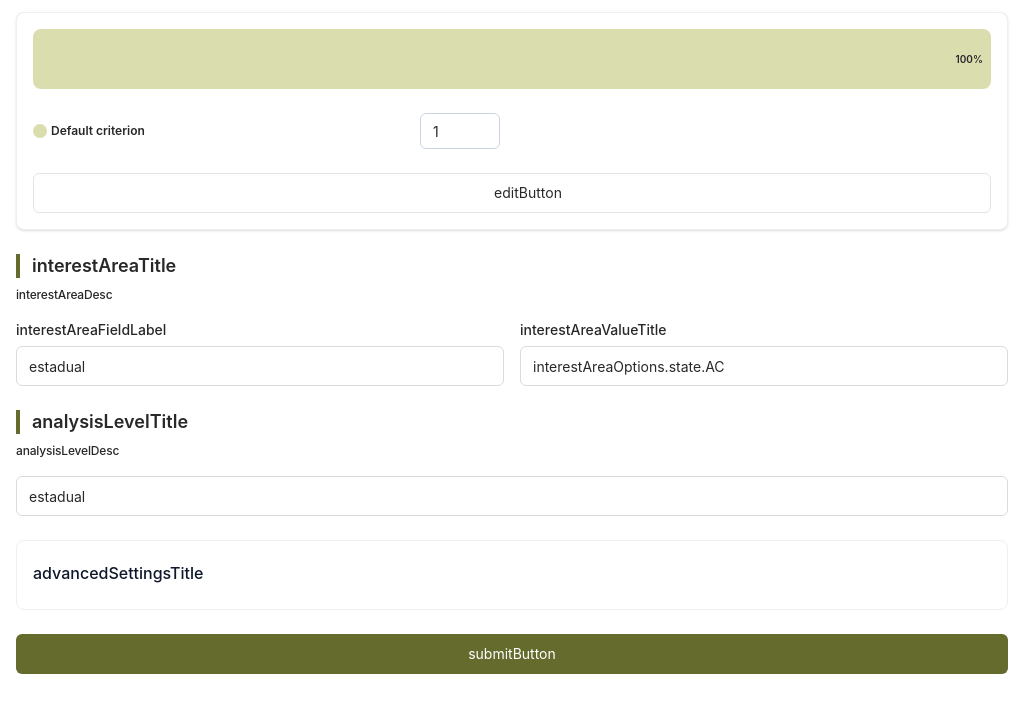
Test: closes the advanced settings on click while an error is still showing
(page scrolled)
Click the button "advancedSettingsTitle" at [118, 573], box [17,545,1007,601]
(page scrolled)
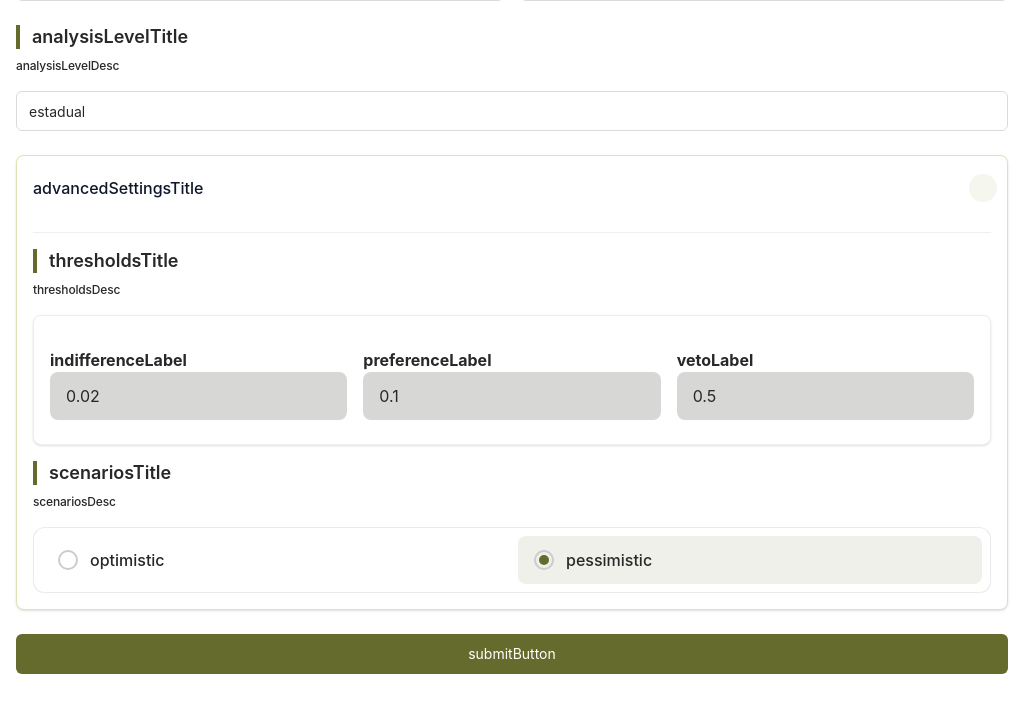
Clear the number field with placeholder "indifferencePlaceholder" at [199, 396], box [50,372,347,420]
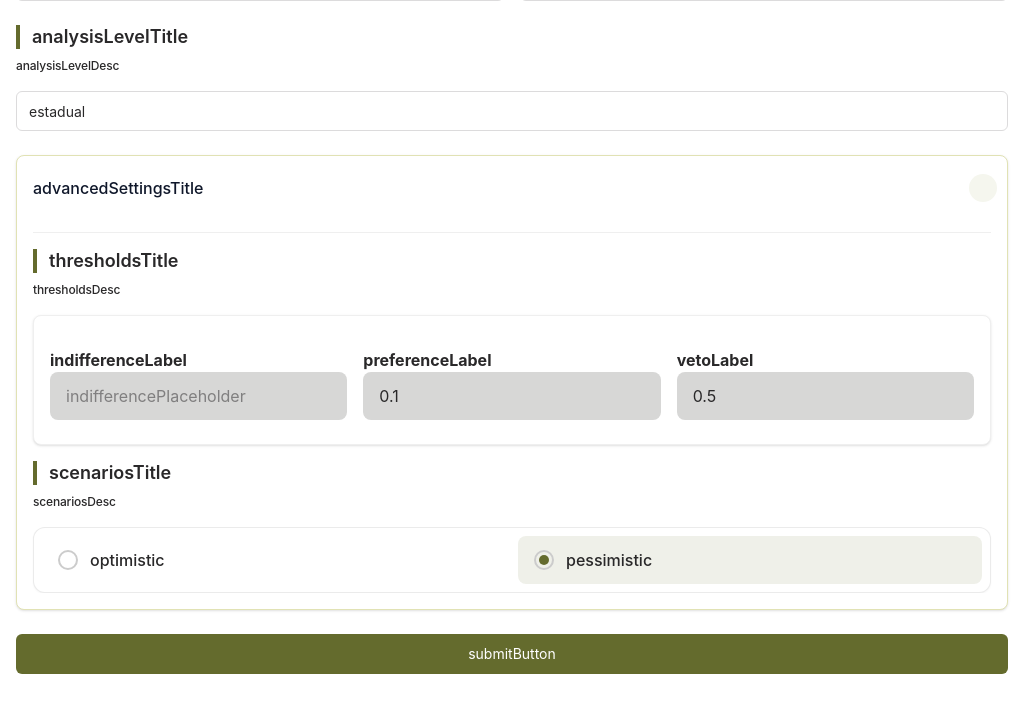
Click the button "submitButton" at [512, 654], box [16,634,1008,674]
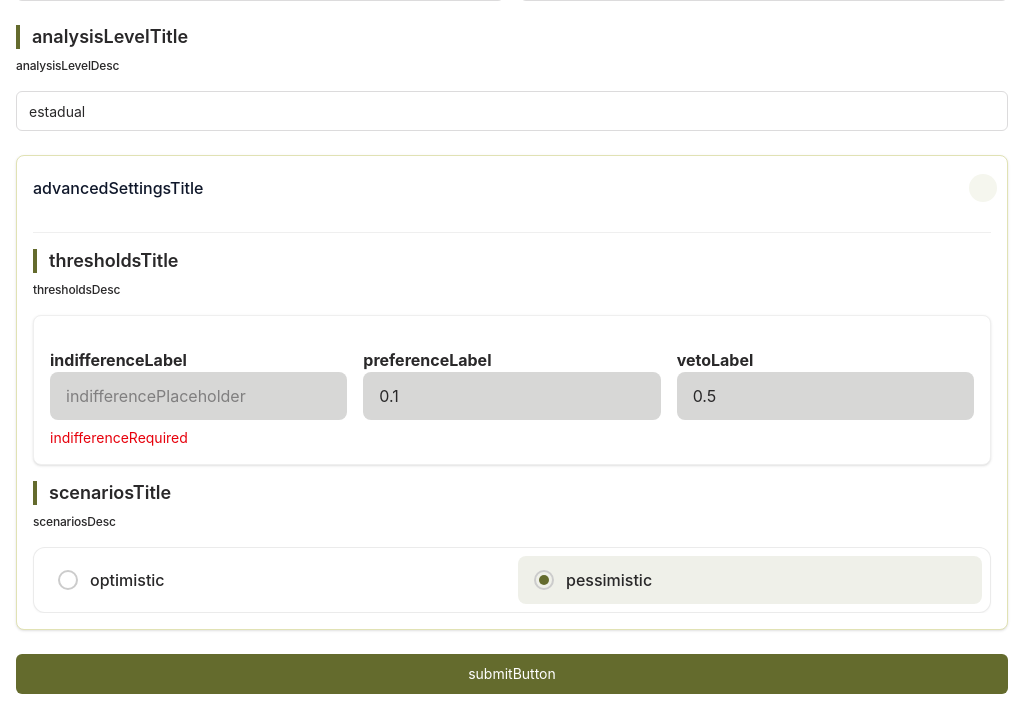
Result: the text "indifferenceRequired" is shown at [50,429,188,446]
Click the button "advancedSettingsTitle" at [118, 188], box [17,160,1007,216]
(page scrolled)
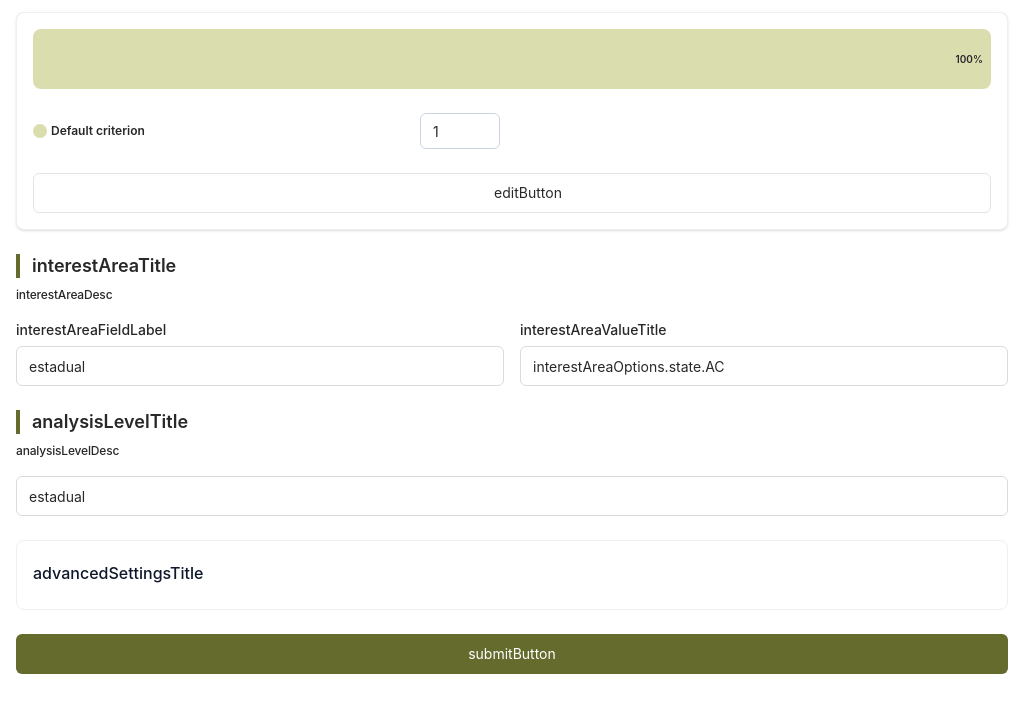
Result: the button "advancedSettingsTitle" is collapsed at [17,545,1007,601]
